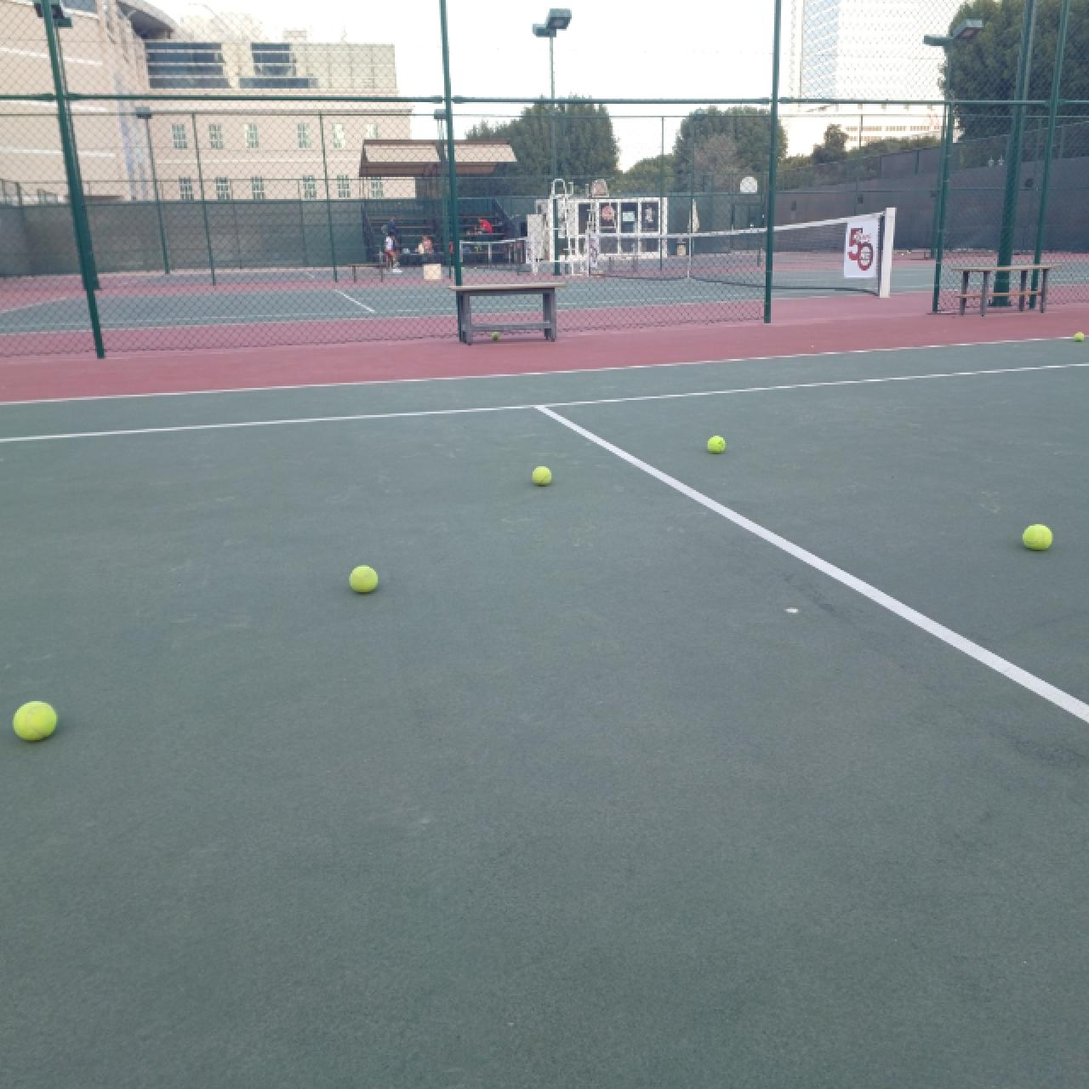tennis-ball: (13, 699, 59, 744), (348, 564, 380, 594), (1022, 522, 1054, 552), (532, 465, 553, 487), (706, 434, 728, 455), (1073, 331, 1085, 343), (491, 332, 499, 341)
